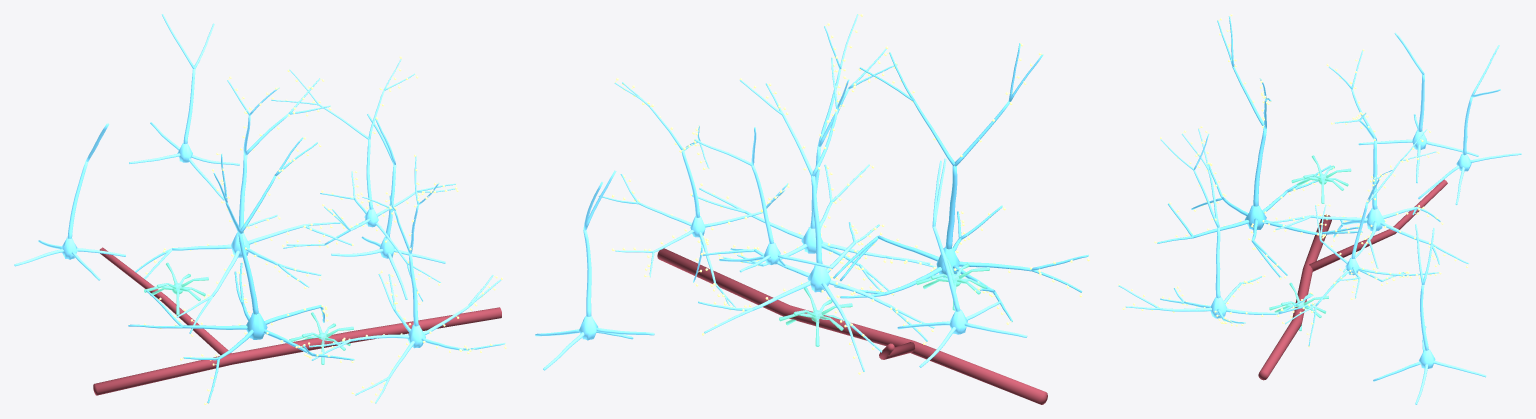
The model's file is neural_forest.glb.
3 views of the same model, side by side, from view 1: azimuth 30°, elevation 25°; view 2: azimuth 150°, elevation 25°; view 3: azimuth 270°, elevation 25° (orthographic). The views are drawn at different scales.
Visible parts, largest first — view 1: Forest_Cerebral_Capillaries, Pyramidal_Neuron_Hero, Hippocampal_CA3_Neuron, Pyramidal_Neuron_FG, Forest_Dendritic_Spines, Interneuron_Stellate_MG, BG_Network_Top, BG_Network_Right, BG_Network_Left, Forest_Astrocytes_Glia; view 2: Forest_Cerebral_Capillaries, Pyramidal_Neuron_Hero, Hippocampal_CA3_Neuron, Pyramidal_Neuron_FG, Forest_Dendritic_Spines, Interneuron_Stellate_MG, BG_Network_Left, BG_Network_Right, Forest_Astrocytes_Glia, BG_Network_Top; view 3: Pyramidal_Neuron_Hero, Forest_Cerebral_Capillaries, Pyramidal_Neuron_FG, Hippocampal_CA3_Neuron, Forest_Dendritic_Spines, Interneuron_Stellate_MG, BG_Network_Right, Forest_Astrocytes_Glia, BG_Network_Left, BG_Network_Top.
Part boxes in pixels (x1=…): Forest_Cerebral_Capillaries: x1=93, y1=247, x2=501, y2=395; Pyramidal_Neuron_Hero: x1=128, y1=137, x2=354, y2=403; Hippocampal_CA3_Neuron: x1=135, y1=78, x2=351, y2=333; Pyramidal_Neuron_FG: x1=309, y1=155, x2=505, y2=403; Forest_Dendritic_Spines: x1=129, y1=56, x2=506, y2=404; Interneuron_Stellate_MG: x1=271, y1=59, x2=455, y2=301; BG_Network_Top: x1=129, y1=14, x2=239, y2=200; BG_Network_Right: x1=331, y1=114, x2=445, y2=299; BG_Network_Left: x1=14, y1=123, x2=125, y2=280; Forest_Astrocytes_Glia: x1=144, y1=262, x2=353, y2=364; Forest_Cerebral_Capillaries: x1=657, y1=248, x2=1047, y2=404; Pyramidal_Neuron_Hero: x1=833, y1=43, x2=1088, y2=321; Hippocampal_CA3_Neuron: x1=698, y1=57, x2=934, y2=371; Pyramidal_Neuron_FG: x1=692, y1=14, x2=936, y2=295; Forest_Dendritic_Spines: x1=600, y1=14, x2=1089, y2=374; Interneuron_Stellate_MG: x1=598, y1=82, x2=788, y2=307; BG_Network_Left: x1=897, y1=158, x2=1027, y2=367; BG_Network_Right: x1=535, y1=170, x2=654, y2=370; Forest_Astrocytes_Glia: x1=779, y1=252, x2=989, y2=346; BG_Network_Top: x1=694, y1=127, x2=832, y2=272; Pyramidal_Neuron_Hero: x1=1157, y1=16, x2=1362, y2=277; Forest_Cerebral_Capillaries: x1=1258, y1=179, x2=1447, y2=380; Pyramidal_Neuron_FG: x1=1118, y1=128, x2=1315, y2=323; Hippocampal_CA3_Neuron: x1=1263, y1=50, x2=1468, y2=272; Forest_Dendritic_Spines: x1=1118, y1=14, x2=1468, y2=347; Interneuron_Stellate_MG: x1=1285, y1=129, x2=1438, y2=346; BG_Network_Right: x1=1373, y1=224, x2=1486, y2=404; Forest_Astrocytes_Glia: x1=1269, y1=155, x2=1351, y2=331; BG_Network_Left: x1=1358, y1=32, x2=1478, y2=183; BG_Network_Top: x1=1418, y1=45, x2=1521, y2=205.
Size of the model in its own units: 6.17 by 3.82 by 5.42.
